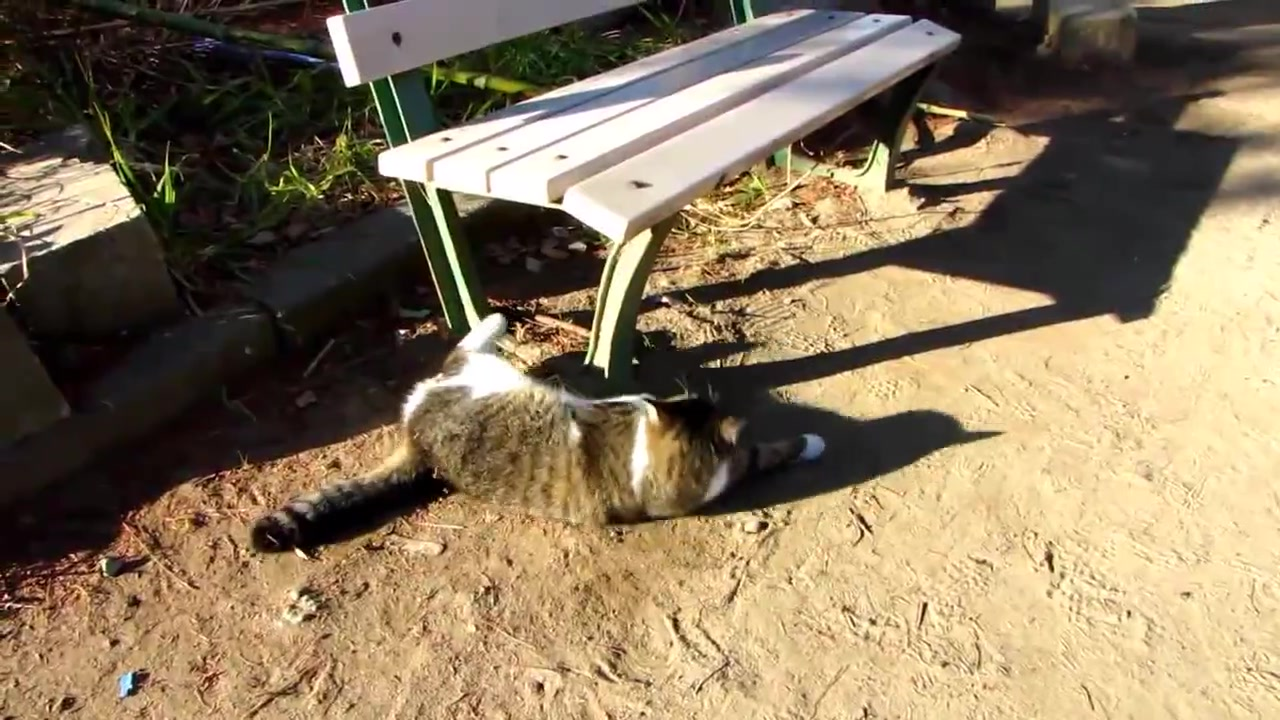cat: (252, 312, 830, 558)
